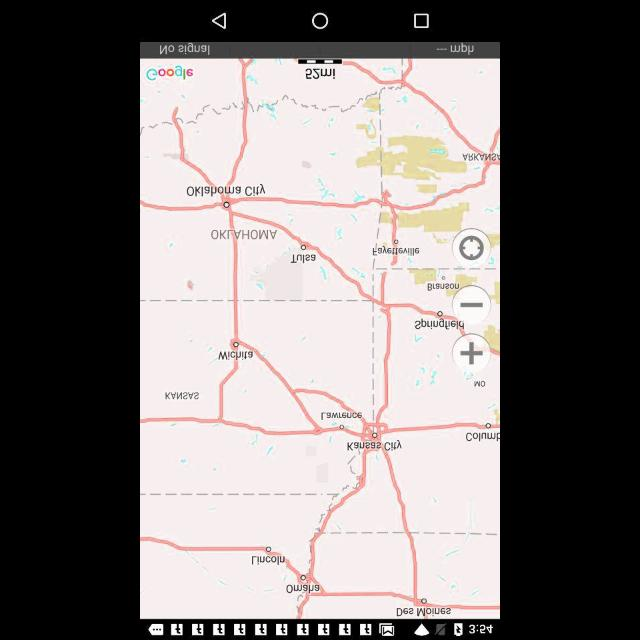icon: (458, 340, 482, 366), (459, 235, 483, 261), (458, 298, 484, 312), (210, 13, 228, 29), (312, 13, 330, 29), (414, 14, 430, 28)
map: (143, 60, 499, 616)
panel: (142, 1, 498, 41)
text: (156, 40, 212, 59), (436, 43, 476, 57)
uppertaskbar: (141, 620, 499, 638)
